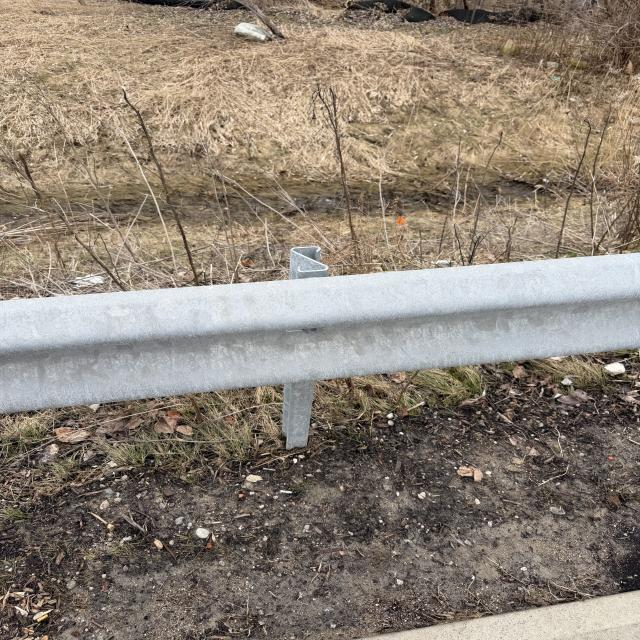Guard rail: (24, 260, 636, 404)
